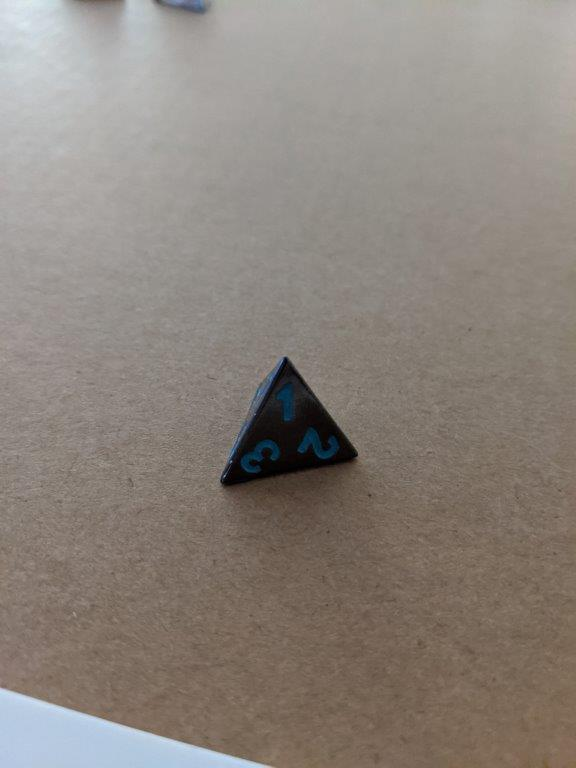d4-1: (210, 352, 361, 491)
